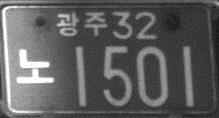0: (135, 44, 169, 107)
1: (180, 42, 197, 110), (72, 44, 89, 107)
2: (135, 11, 157, 41)
3: (109, 10, 132, 39)
5: (102, 44, 133, 107)
광주_O: (57, 9, 108, 37)
노: (16, 47, 54, 85)
